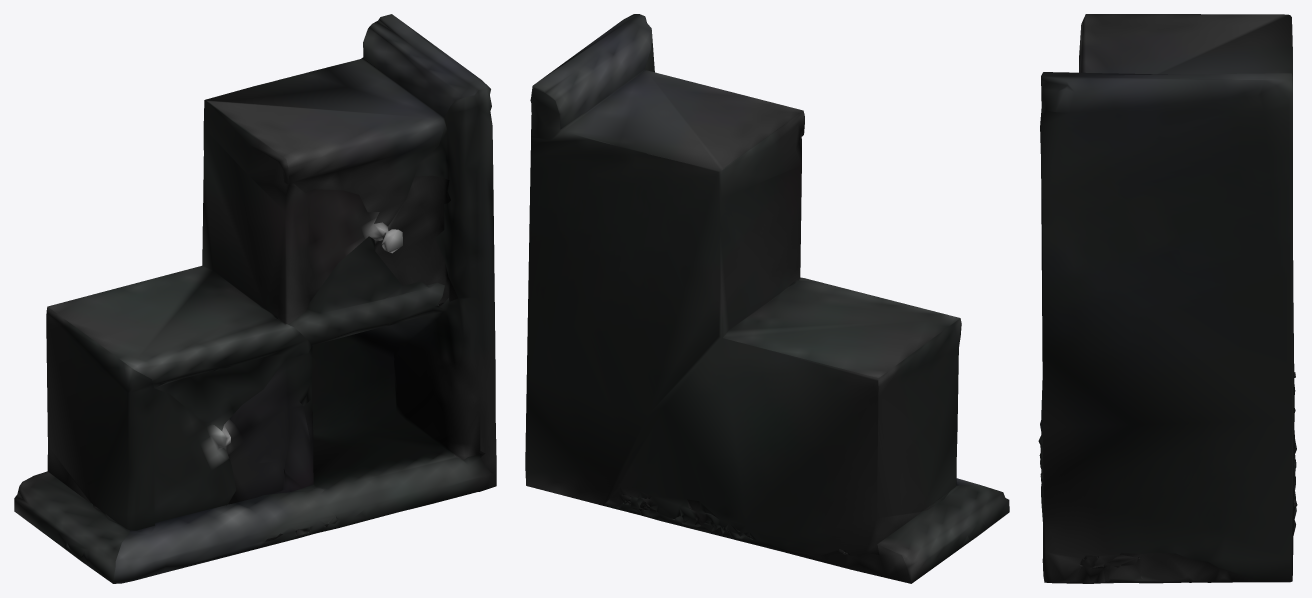
File: Victor_Reversible_Bookend-medium.glb
The picture shows the model from 3 angles, left to right: view 1: azimuth 30°, elevation 25°; view 2: azimuth 150°, elevation 25°; view 3: azimuth 270°, elevation 25°; orthographic projection. The views are drawn at different scales.
Parts seen in each view (by area): view 1: Victor_Reversible_Bookend; view 2: Victor_Reversible_Bookend; view 3: Victor_Reversible_Bookend.
Boxes of the visible parts, <box> form: Victor_Reversible_Bookend: <box>14,14,496,583</box>; Victor_Reversible_Bookend: <box>525,14,1009,583</box>; Victor_Reversible_Bookend: <box>1038,14,1297,583</box>.
Bounding box in the file's own units: 0.2344 × 0.236 × 0.1088.
1 material, 1 textured.
